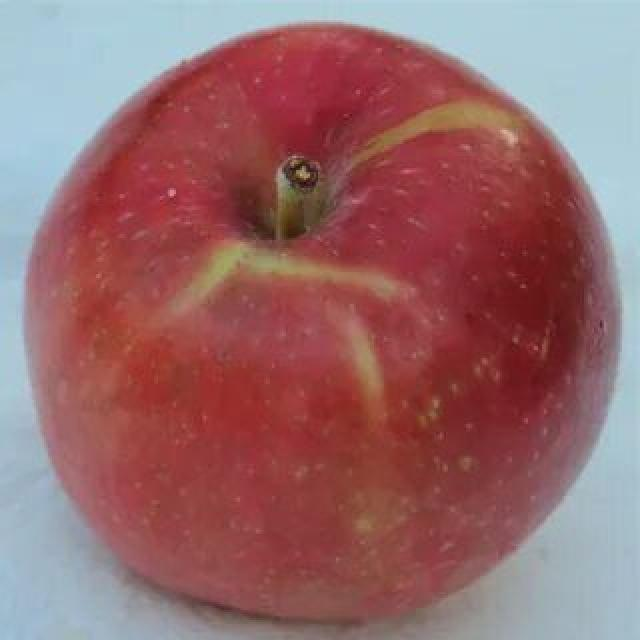Fresh Apple: (25, 20, 620, 625)
